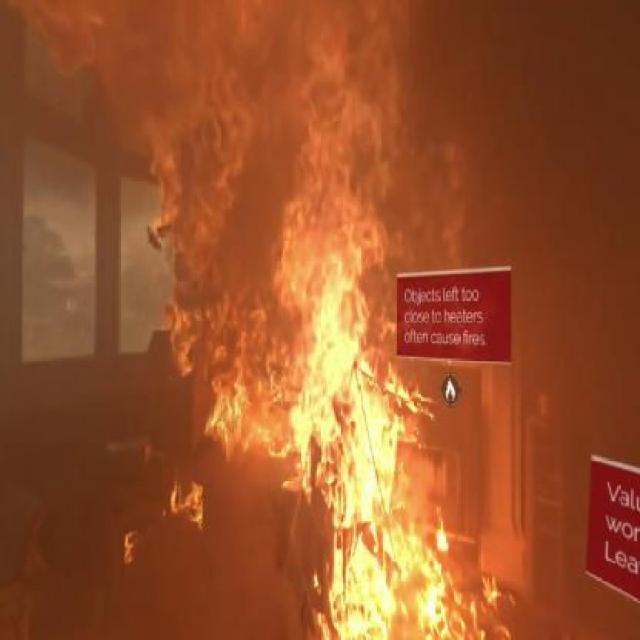fire: (296, 240, 438, 638)
smoke: (476, 23, 622, 236), (4, 109, 118, 280)
